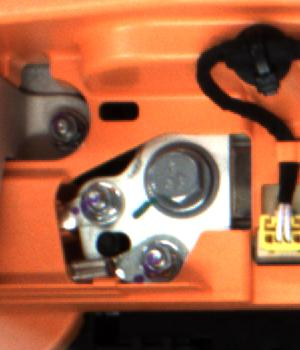nut_b: (141, 143, 216, 219)
screw_s: (135, 239, 182, 277), (75, 185, 122, 221), (44, 110, 87, 149)
